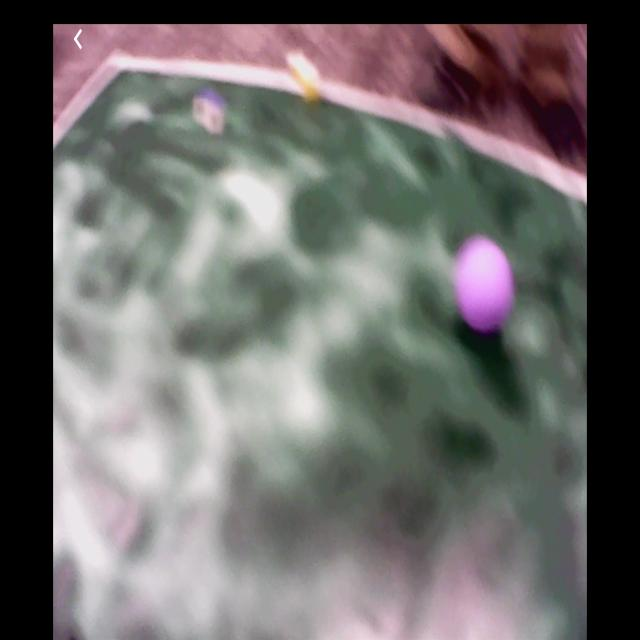ball: (459, 241, 514, 331)
